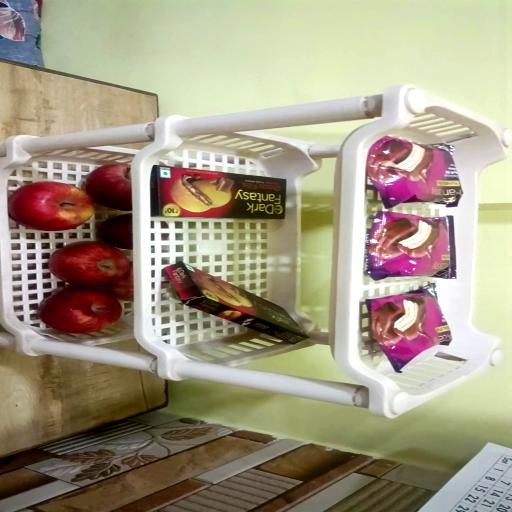Apple: (8, 184, 94, 232), (48, 244, 131, 290), (39, 287, 121, 333), (84, 166, 132, 212), (99, 214, 134, 250)
Choco Fills: (164, 263, 312, 344), (153, 170, 288, 221)
Choco Pie: (367, 286, 452, 373), (366, 140, 460, 212), (366, 214, 454, 280)
